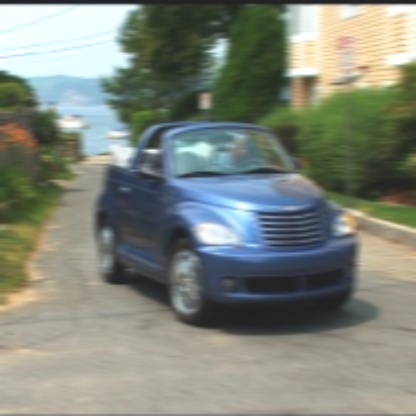Vehicle: (92, 111, 363, 330)
